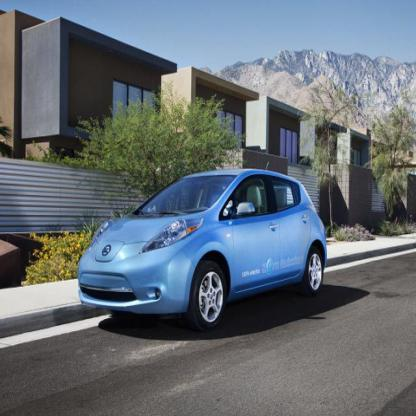Vehicle: (78, 161, 330, 330)
